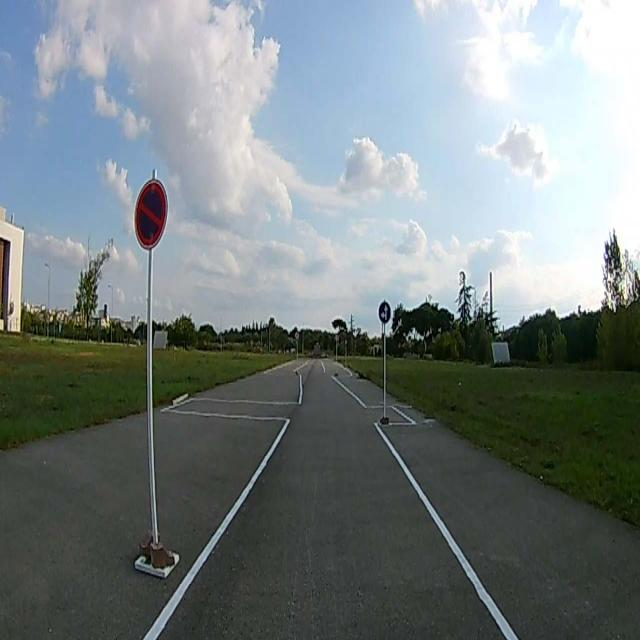ilerisol: (378, 303, 392, 325)
parkyasak: (135, 178, 166, 248)
